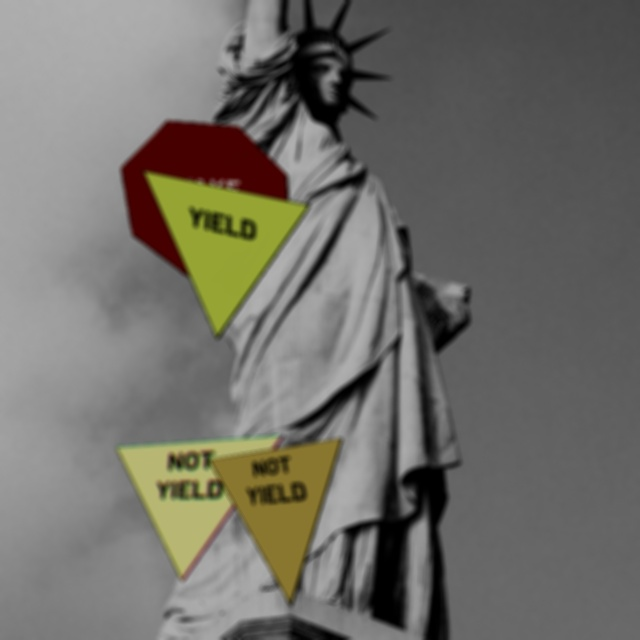FAKE_STOP: (120, 120, 290, 277)
NOT_YIELD: (115, 434, 285, 582), (208, 437, 343, 607)
YIELD: (142, 170, 311, 340)
